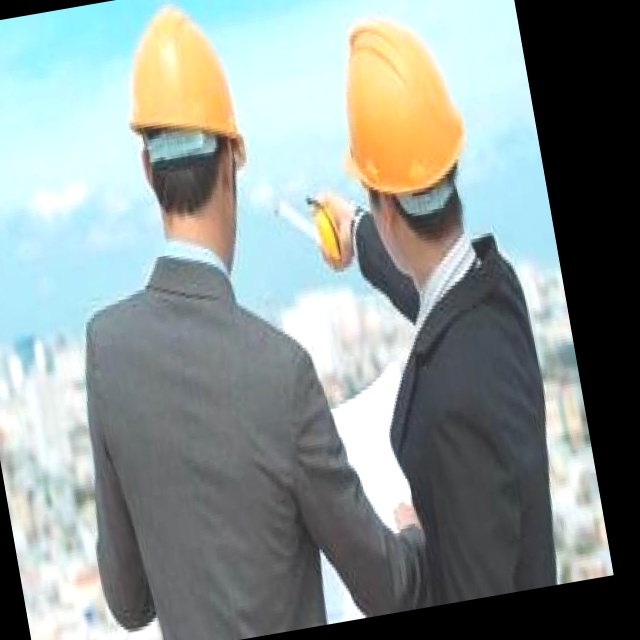Con_Casco: (318, 0, 487, 277), (107, 0, 263, 243)
Sin_Chaleco: (52, 251, 362, 640)
